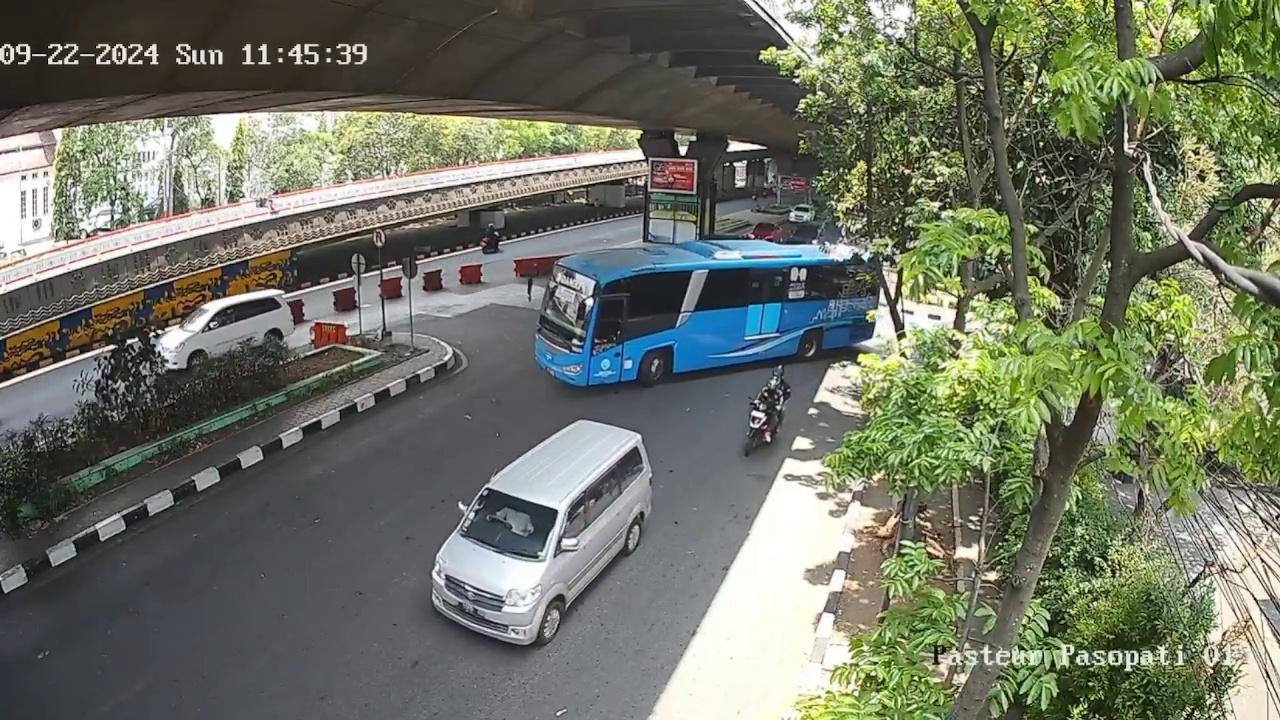tidak-pakai: (495, 499, 535, 535)
windshield: (459, 488, 558, 562)
